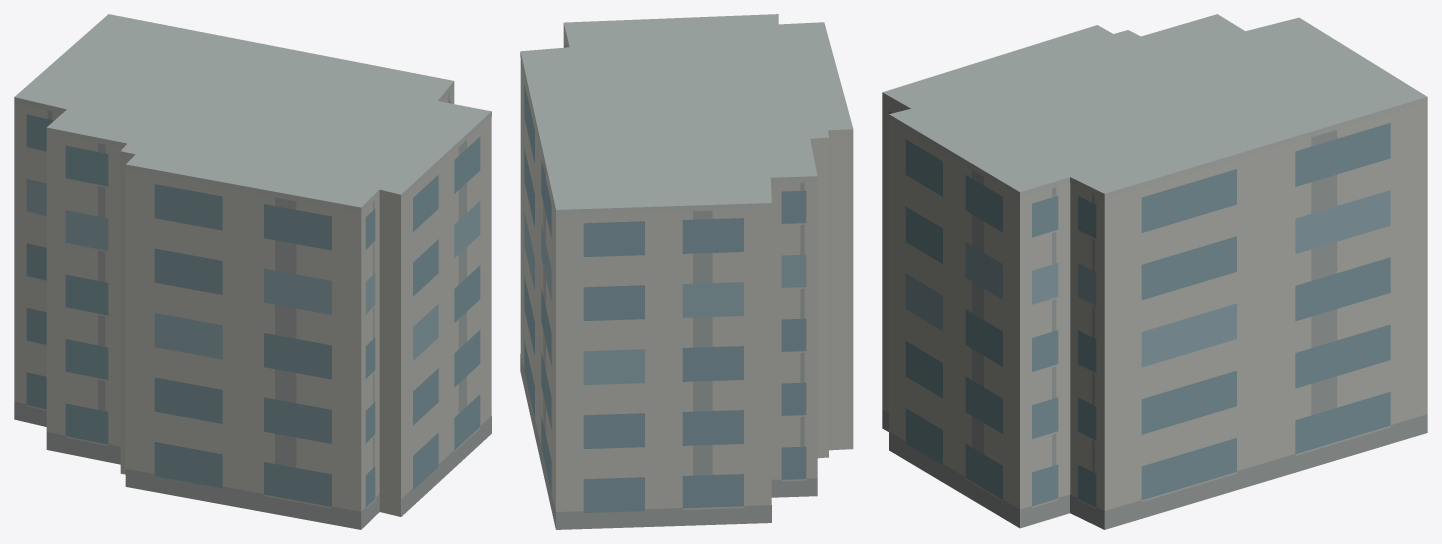
The model's file is survey-upis-33014400.glb.
3 renders of one model, left to right at view 1: azimuth 30°, elevation 25°; view 2: azimuth 150°, elevation 25°; view 3: azimuth 270°, elevation 25°, orthographic. The views are drawn at different scales.
Parts seen in each view (by area): view 1: survey-upis-33014400.tmp; view 2: survey-upis-33014400.tmp; view 3: survey-upis-33014400.tmp.
Boxes of the visible parts, x1,y1,x2,y2 form: survey-upis-33014400.tmp: (14,14,491,529); survey-upis-33014400.tmp: (520,14,853,529); survey-upis-33014400.tmp: (882,14,1427,529).
Bounding box in the file's own units: 15.96 × 13.9 × 20.44.
